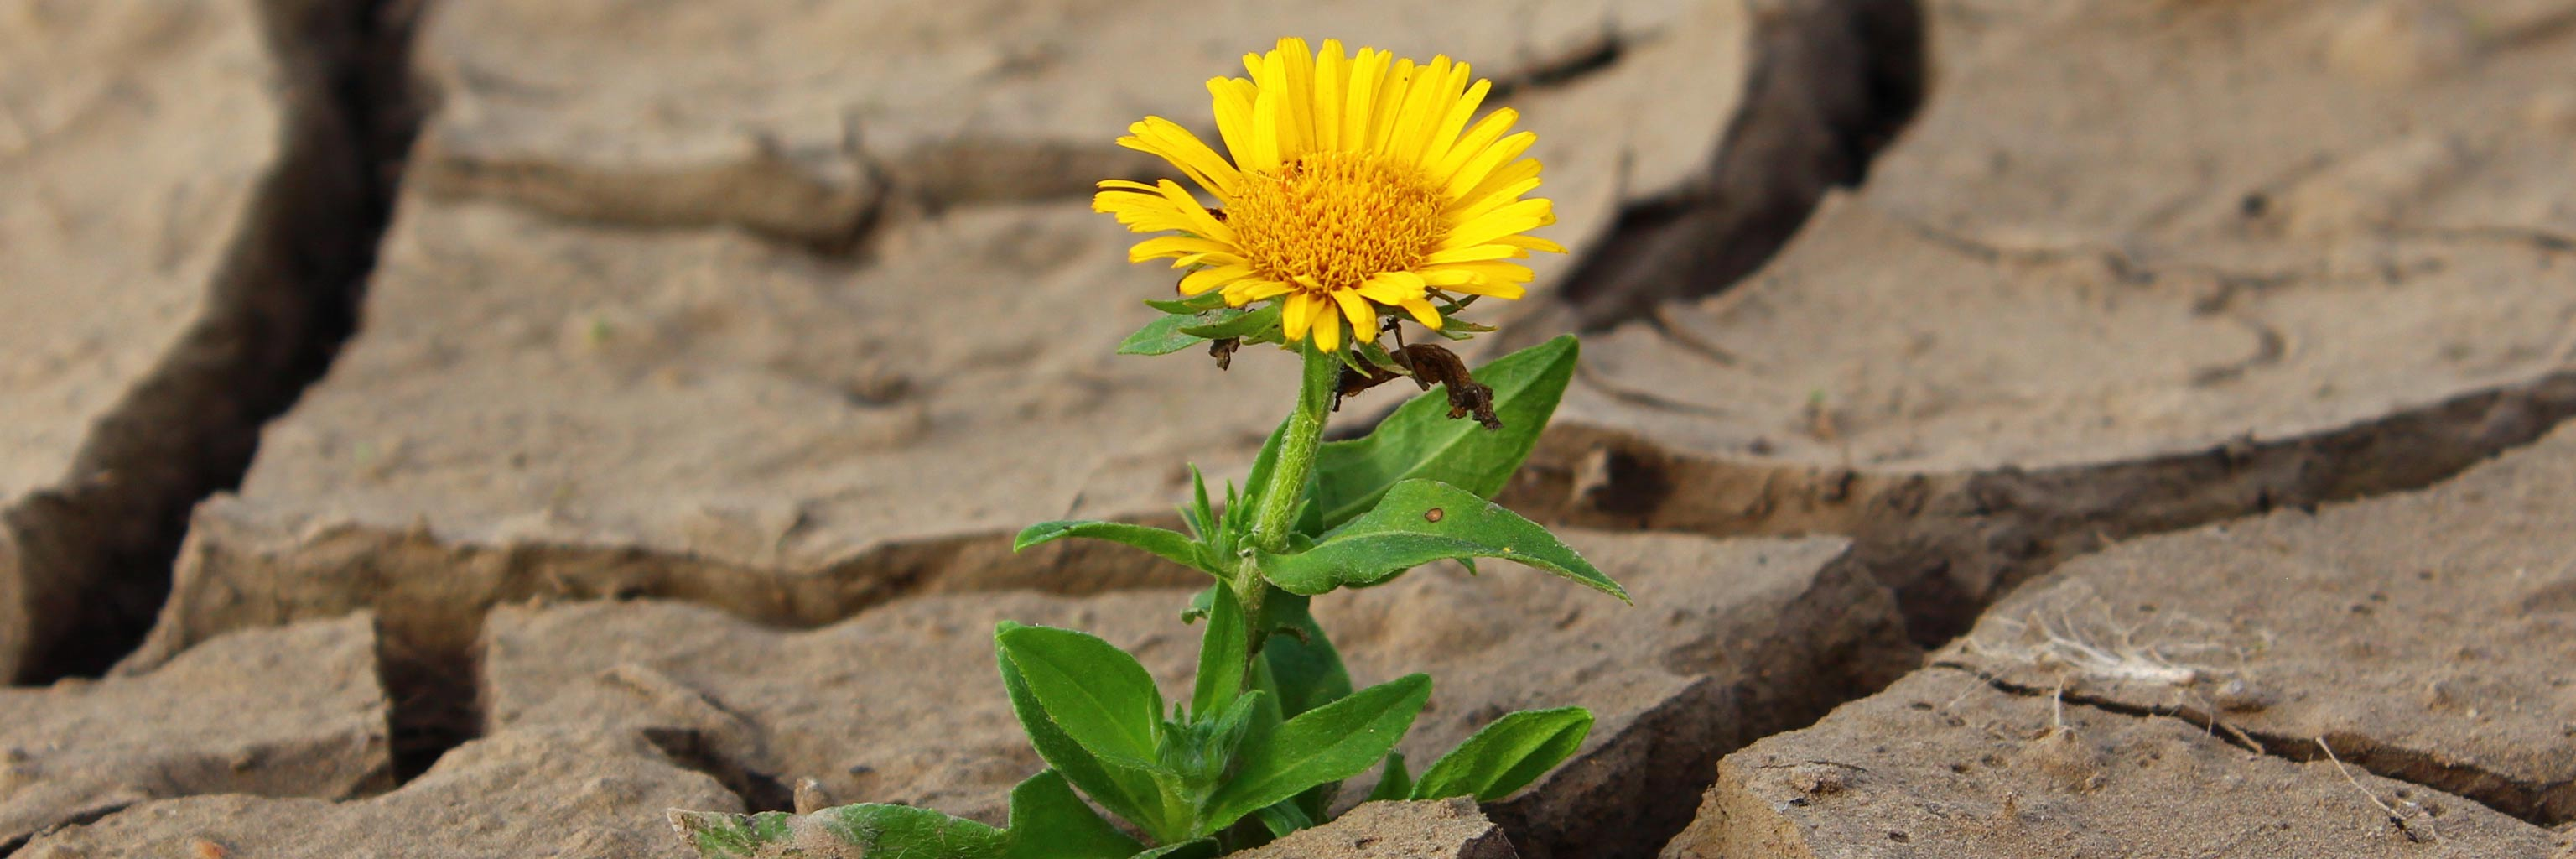dandelion: (1043, 57, 1528, 314)
